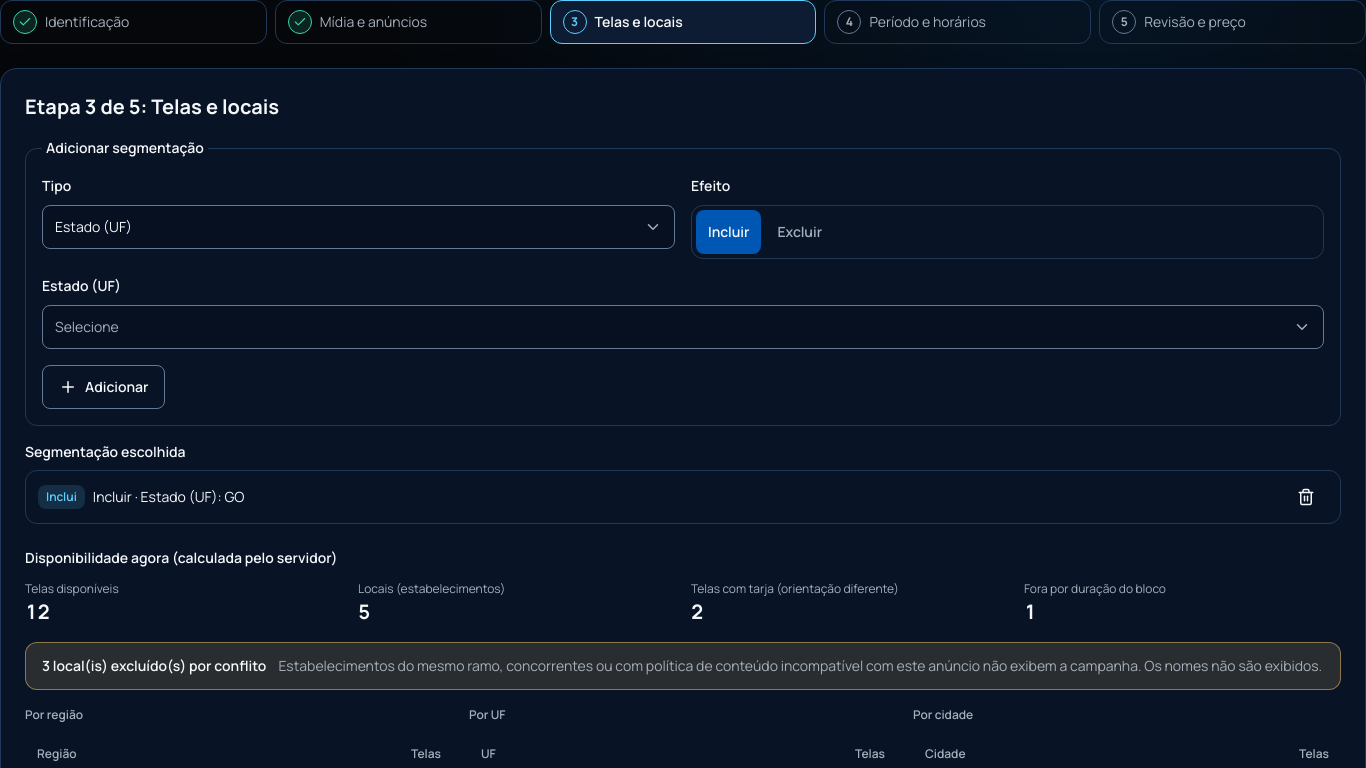
it: anunciante nunca vê nomes de estabelecimentos › a equipe RD tem a opção de estabelecimento específico
Click the dropdown named "Tipo".
click(93, 226)  # box [42,205,675,249]
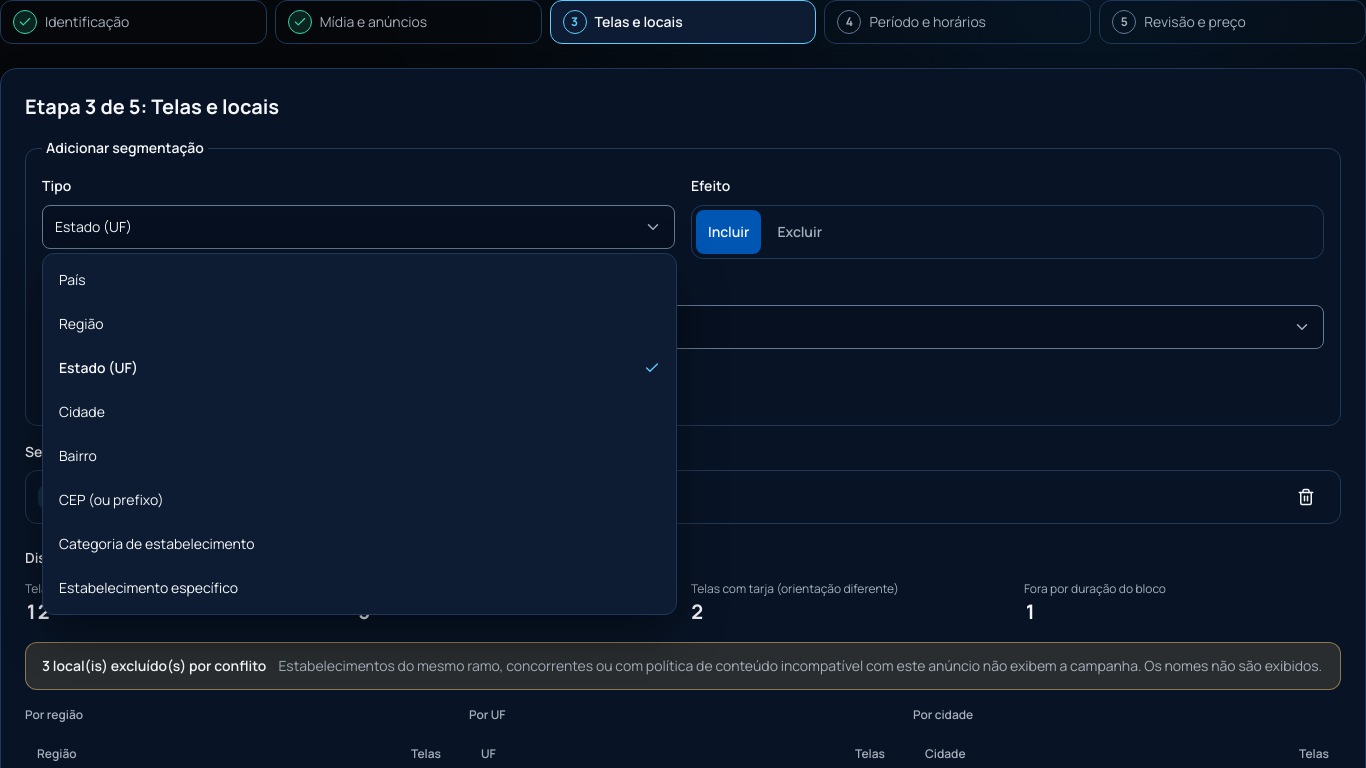
Result: the option "Estabelecimento específico" is shown at [59,578,238,597]
